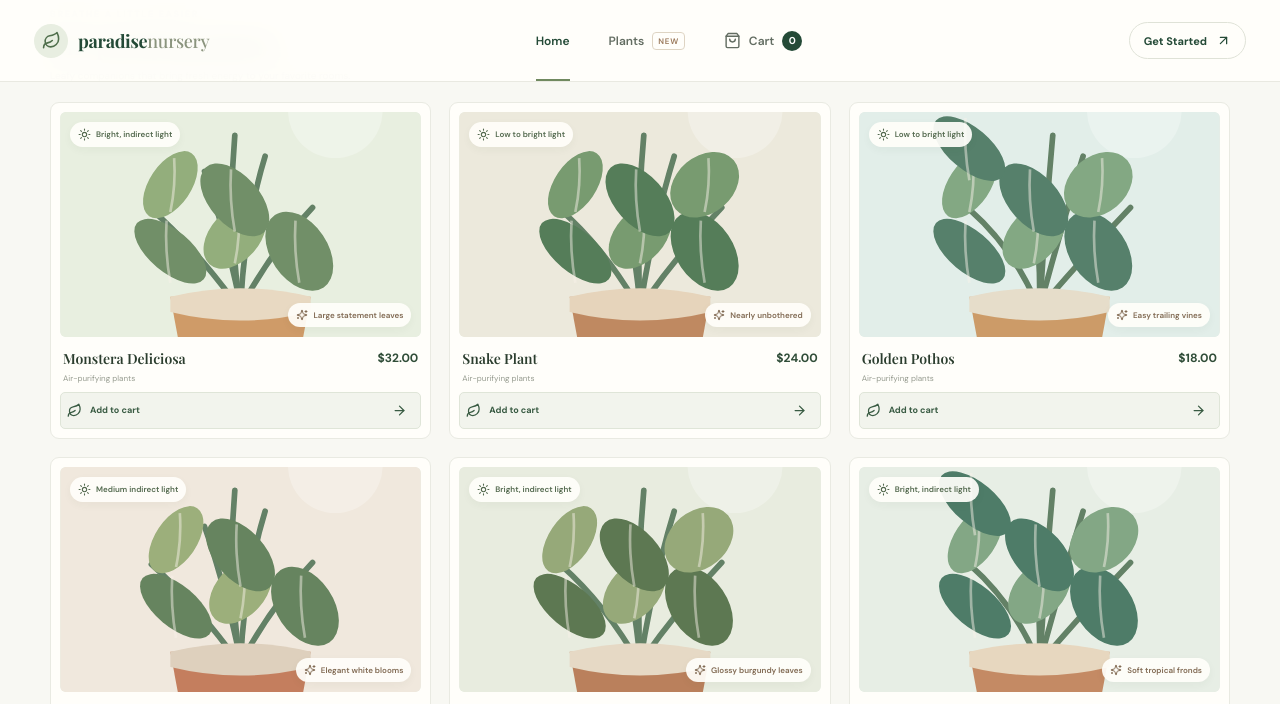
Test case: Paradise Nursery shopping flow › adds a plant, updates the navbar count, supports quantity changes and deletion
(page scrolled)
Click the button with aria-label "Add Monstera Deliciosa to cart": (115, 410) [60, 392, 421, 429]
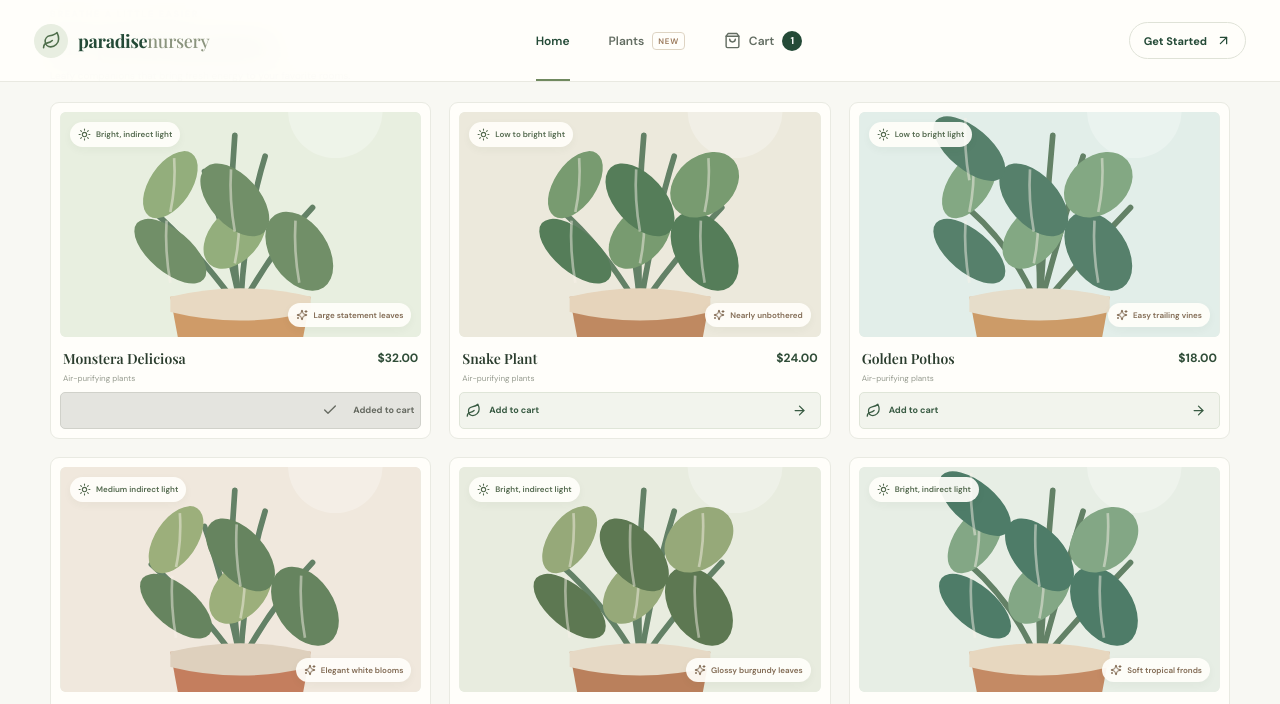
Result: the text with test id "cart-quantity" reads "1" at [790, 34, 794, 47]
Result: the button with aria-label "Monstera Deliciosa added to cart" is disabled at [60, 392, 421, 429]
Click the link with aria-label "Cart, 1 items": (763, 40) [724, 30, 802, 50]
(page scrolled)
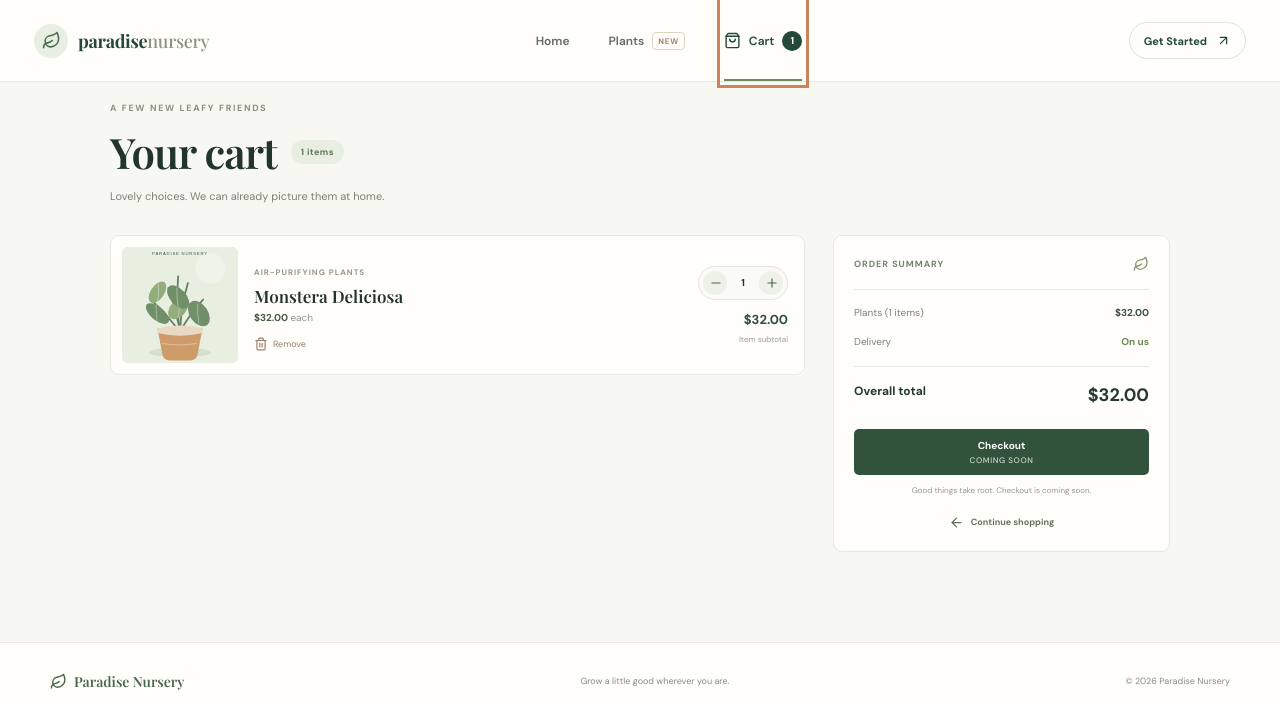
Result: the text "Overall total" is shown at [854, 383, 926, 407]
Result: the text with class "line-subtotal" reads "$32.00" at [744, 311, 788, 328]
Result: the text "$32.00" in the row of "Overall total" is shown at [1088, 383, 1149, 407]
Click the button named "Increase Monstera Deliciosa": (771, 283) [759, 271, 783, 295]
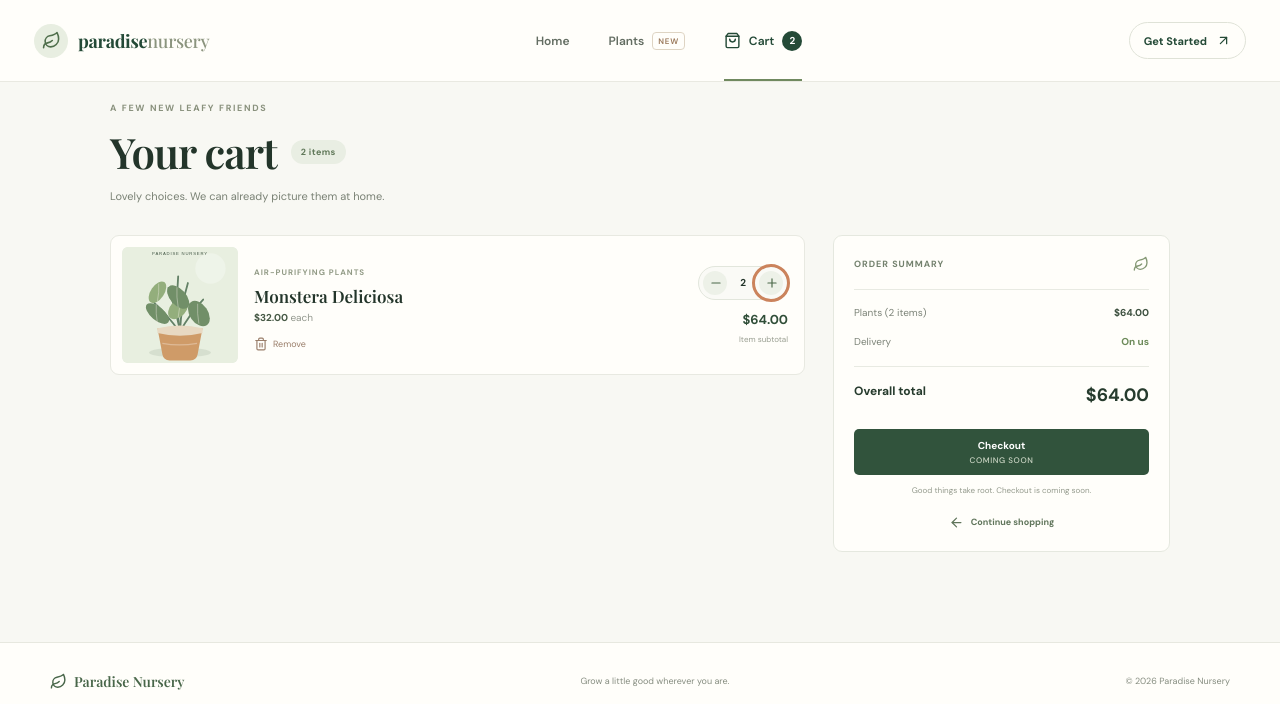
Result: the text with test id "cart-quantity" reads "2" at [790, 34, 795, 47]
Result: the text with class "line-subtotal" reads "$64.00" at [742, 311, 788, 328]
Result: the text "$64.00" next to "Overall total" is shown at [1086, 383, 1149, 407]
Click the button named "Decrease Monstera Deliciosa": (715, 283) [703, 271, 727, 295]
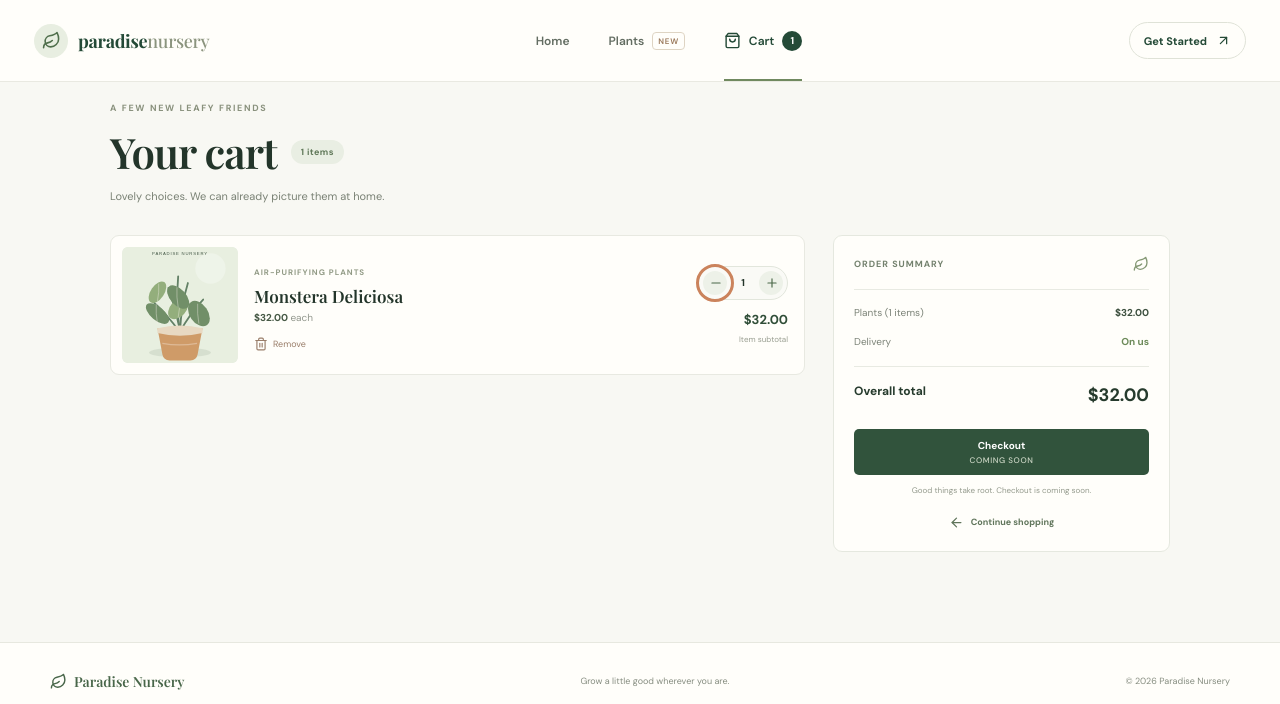
Result: the text with test id "cart-quantity" reads "1" at [790, 34, 794, 47]
Click the button with aria-label "Remove Monstera Deliciosa": (280, 344) [254, 337, 306, 351]
(page scrolled)
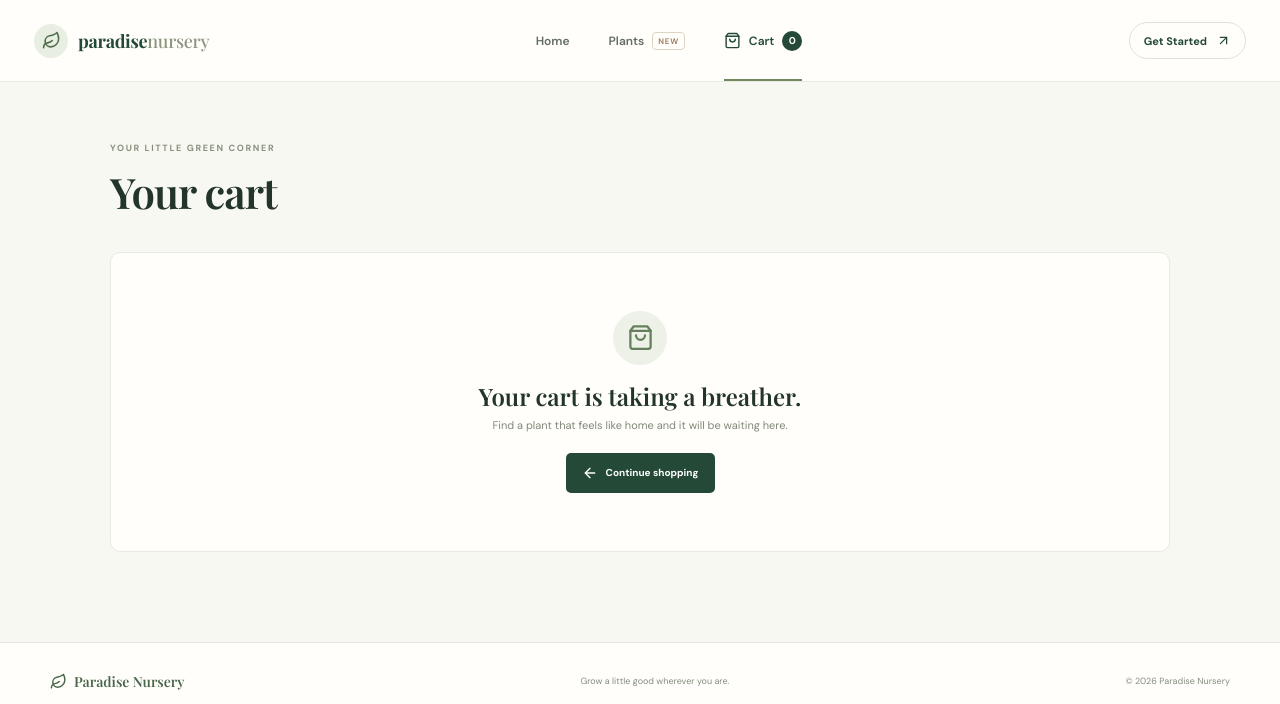
Result: the heading "Your cart is taking a breather." is shown at [479, 380, 802, 412]
Result: the text with test id "cart-quantity" reads "0" at [789, 34, 796, 47]
